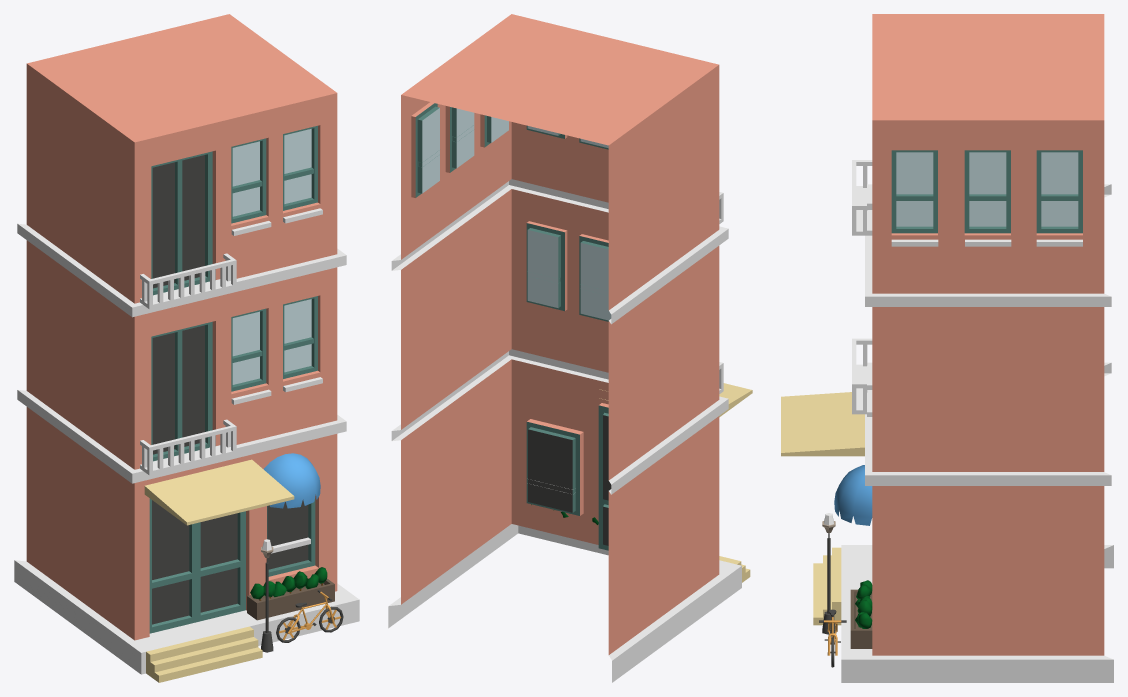
Rendered from building_3.fbx.
3 views of the same model, side by side, from view 1: azimuth 30°, elevation 25°; view 2: azimuth 150°, elevation 25°; view 3: azimuth 270°, elevation 25° (orthographic). The views are drawn at different scales.
Visible parts, largest first — view 1: building_3; view 2: building_3; view 3: building_3.
Part boxes in pixels (left/top/right/bottom): building_3: left=14, top=14, right=359, bottom=682; building_3: left=388, top=14, right=752, bottom=682; building_3: left=781, top=14, right=1113, bottom=682.
Bounding box in the file's own units: 426 × 968 × 523.
Materials: 1 (1 with a texture image).
